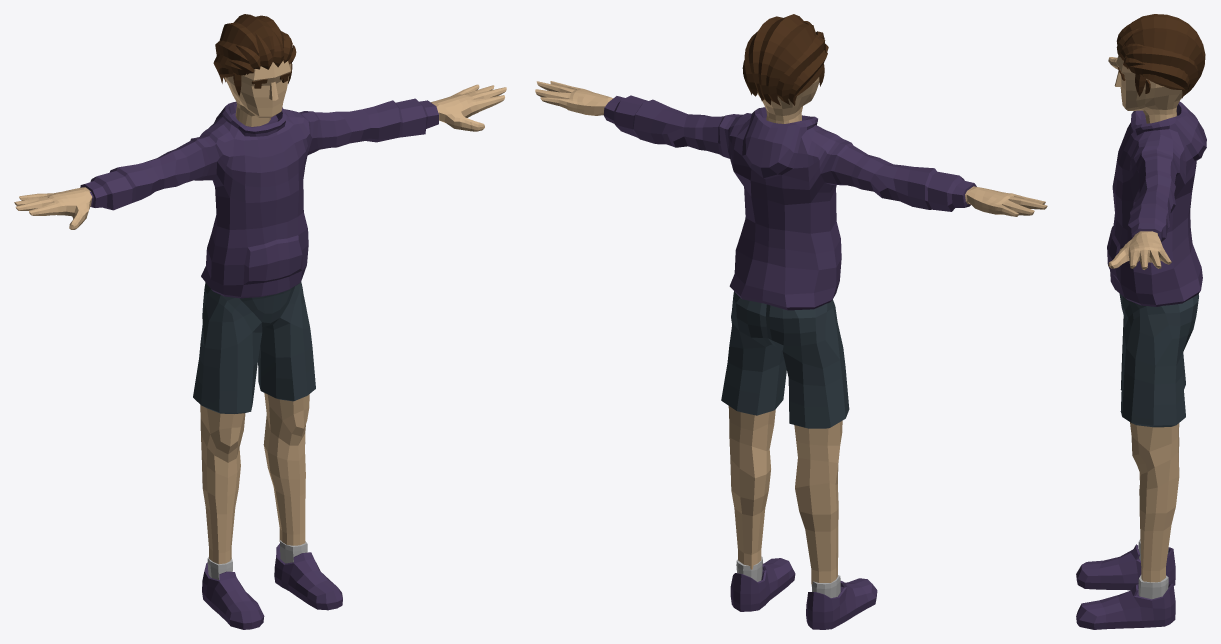
The model's file is character1.fbx.
The picture shows the model from 3 angles, left to right: view 1: azimuth 30°, elevation 25°; view 2: azimuth 150°, elevation 25°; view 3: azimuth 270°, elevation 25°; orthographic projection. The views are drawn at different scales.
Parts seen in each view (by area): view 1: Casual_Body, Casual_Legs, Casual_Head, Casual_Feet; view 2: Casual_Body, Casual_Legs, Casual_Head, Casual_Feet; view 3: Casual_Body, Casual_Legs, Casual_Head, Casual_Feet.
Part boxes in pixels (x1,y1,x2,y2): Casual_Body: (14,84,506,298); Casual_Legs: (193,282,315,564); Casual_Head: (213,14,296,126); Casual_Feet: (202,540,342,629); Casual_Body: (535,81,1047,310); Casual_Legs: (721,291,849,584); Casual_Head: (742,14,828,123); Casual_Feet: (730,556,877,629); Casual_Body: (1107,57,1206,306); Casual_Legs: (1119,293,1198,582); Casual_Head: (1114,14,1205,123); Casual_Feet: (1076,539,1175,629).
Bounding box in the file's own units: 168 × 187 × 37.78.
